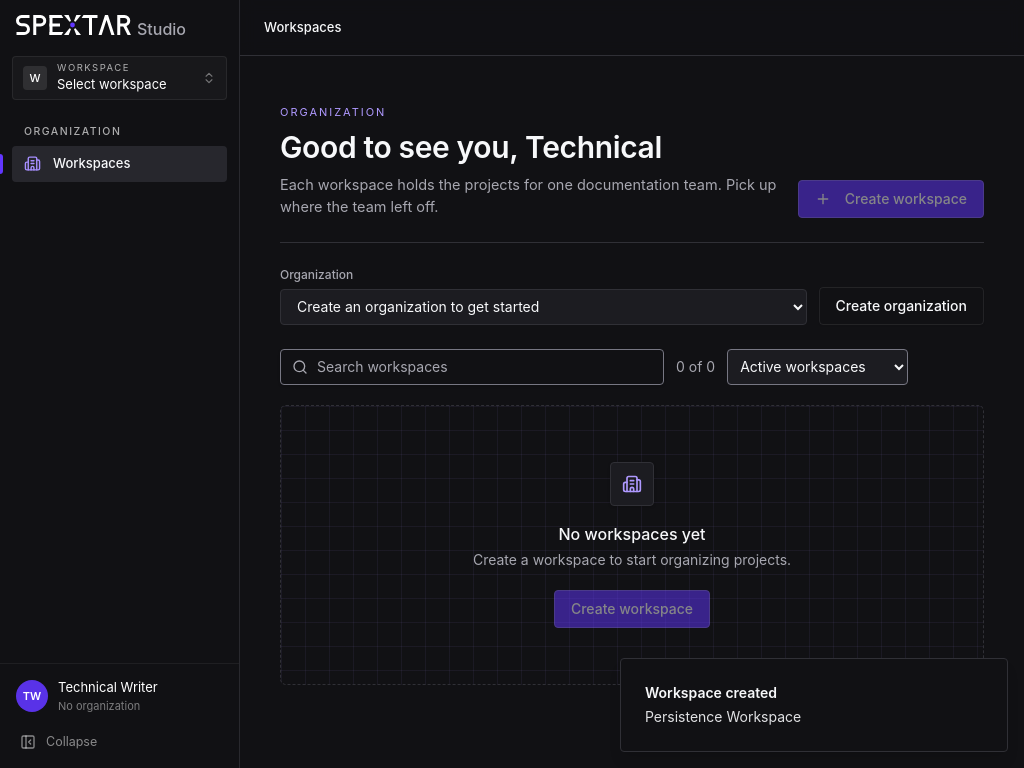
Test case: connected backend application flows › offers organization onboarding when the account has no memberships
Click the button with test id "button-create-organization" at [901, 306], box [819,286,984,324]
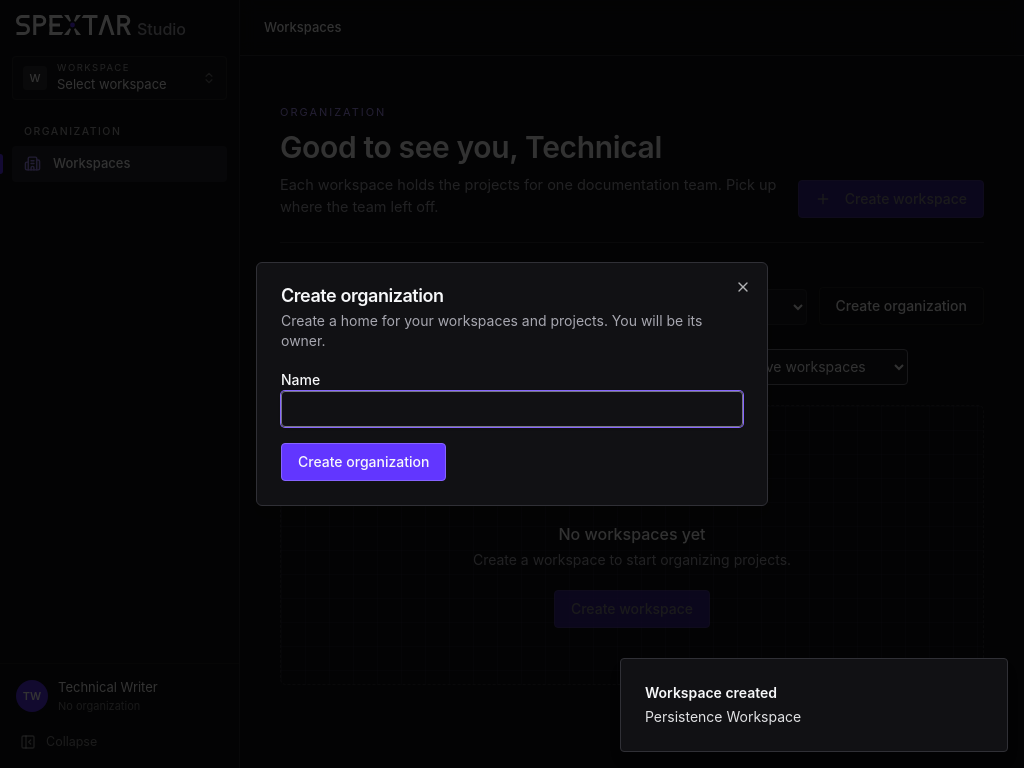
Type "New Organization" into the field labelled "Name" at [512, 409], box [281,391,743,427]
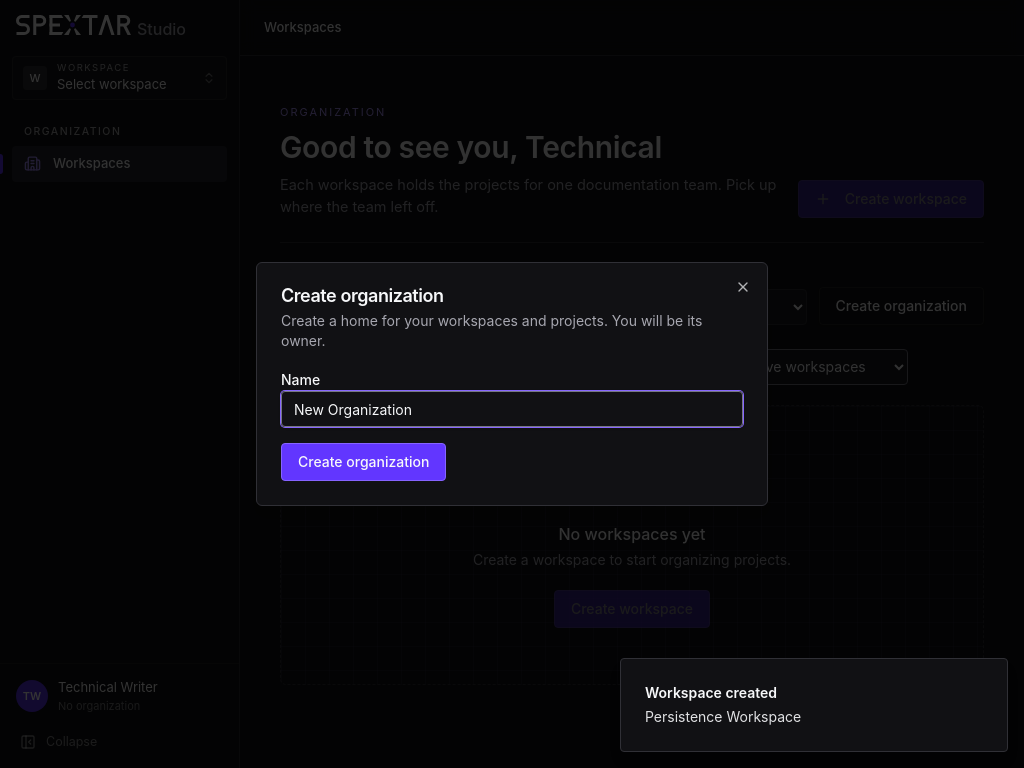
Click the button "Create organization" at [364, 462], box [281,443,446,481]
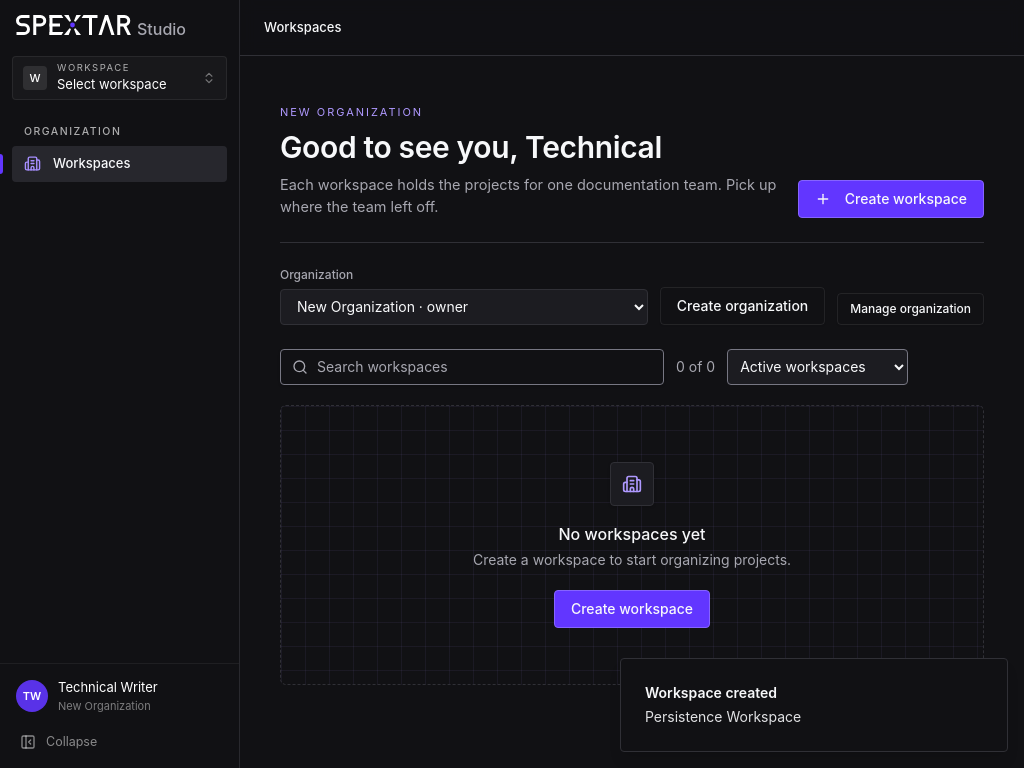
expect the text with test id "text-org-name" reads "New Organization": met, box [280,105,423,119]
expect the button with test id "button-create-workspace" is enabled: met, box [798,180,984,218]
